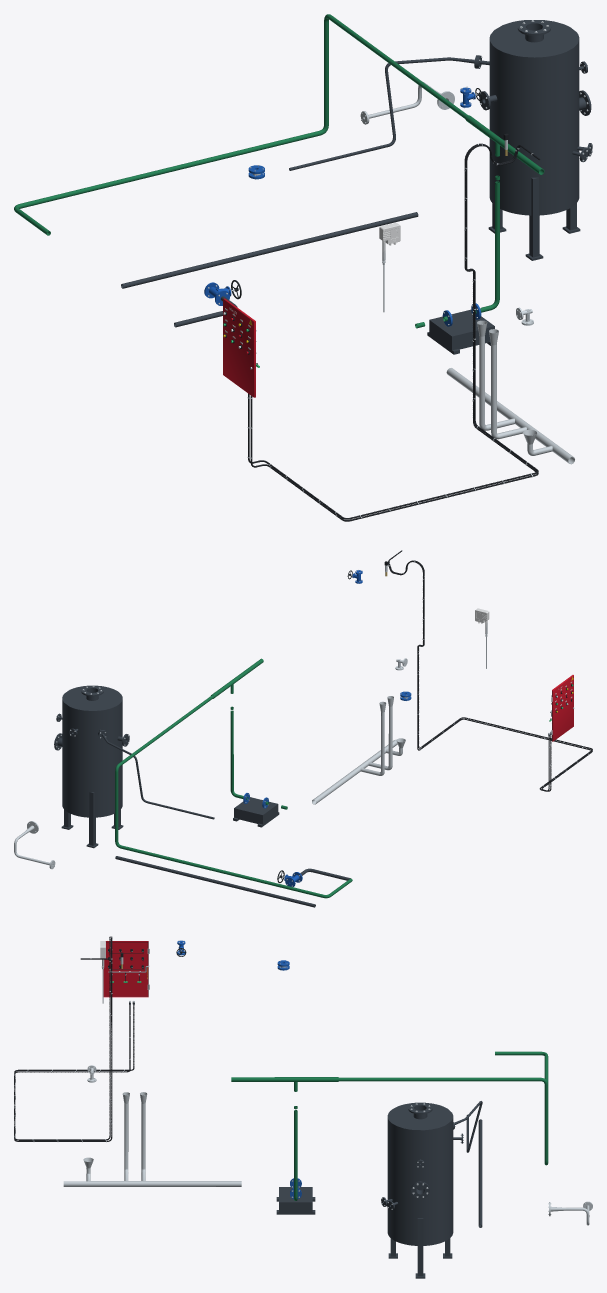
The picture shows the model from 3 angles, top to bottom: view 1: azimuth 30°, elevation 25°; view 2: azimuth 150°, elevation 25°; view 3: azimuth 270°, elevation 25°; orthographic projection. The views are drawn at different scales.
Visible parts, largest first — view 1: separator_bdv60_5 / dark, to_economizer / green, local_open_drains / steel, cabinet_door / cabinet_door_5.npz, wiring_pressure_switch_2 / black, bottom_discharge / dark, pump_branch_2 / dark, wiring_pressure_switch_1 / black, tds_without_fv / dark, pump_branch_2 / green; view 2: separator_bdv60_5 / dark, to_economizer / green, local_open_drains / steel, cabinet_door / cabinet_door_5.npz, wiring_pressure_switch_1 / black, pump_branch_2 / dark, bottom_discharge / dark, wiring_pressure_switch_2 / black, tds_without_fv / dark, pump_branch_2 / green; view 3: separator_bdv60_5 / dark, cabinet_door / cabinet_door_5.npz, local_open_drains / steel, to_economizer / green, wiring_pressure_switch_2 / black, wiring_pressure_switch_1 / black, pump_branch_2 / dark, pump_delivery / green, bottom_discharge / dark.
Boxes of the visible parts, box(x1,y1,x2,y2) form: separator_bdv60_5 / dark: box(476, 20, 592, 260); to_economizer / green: box(14, 14, 467, 235); local_open_drains / steel: box(446, 320, 574, 464); cabinet_door / cabinet_door_5.npz: box(223, 298, 256, 397); wiring_pressure_switch_2 / black: box(248, 144, 538, 519); bottom_discharge / dark: box(121, 212, 418, 288); pump_branch_2 / dark: box(427, 309, 494, 354); wiring_pressure_switch_1 / black: box(250, 143, 540, 521); tds_without_fv / dark: box(289, 55, 478, 170); pump_branch_2 / green: box(415, 142, 499, 328); separator_bdv60_5 / dark: box(54, 685, 129, 848); to_economizer / green: box(115, 695, 352, 898); local_open_drains / steel: box(312, 696, 405, 804); cabinet_door / cabinet_door_5.npz: box(551, 675, 574, 741); wiring_pressure_switch_1 / black: box(388, 550, 592, 791); pump_branch_2 / dark: box(233, 797, 279, 827); bottom_discharge / dark: box(115, 856, 315, 907); wiring_pressure_switch_2 / black: box(389, 557, 592, 791); tds_without_fv / dark: box(98, 730, 214, 819); pump_branch_2 / green: box(230, 684, 287, 809); separator_bdv60_5 / dark: box(381, 1102, 462, 1278); cabinet_door / cabinet_door_5.npz: box(103, 941, 149, 997); local_open_drains / steel: box(63, 1092, 241, 1186); to_economizer / green: box(338, 1051, 548, 1165); wiring_pressure_switch_2 / black: box(14, 936, 134, 1140); wiring_pressure_switch_1 / black: box(14, 936, 130, 1141); pump_branch_2 / dark: box(276, 1187, 315, 1214); pump_delivery / green: box(231, 1077, 338, 1081); bottom_discharge / dark: box(478, 1119, 482, 1227).
Size of the model in its own units: 5.43 by 3.07 by 6.74.
